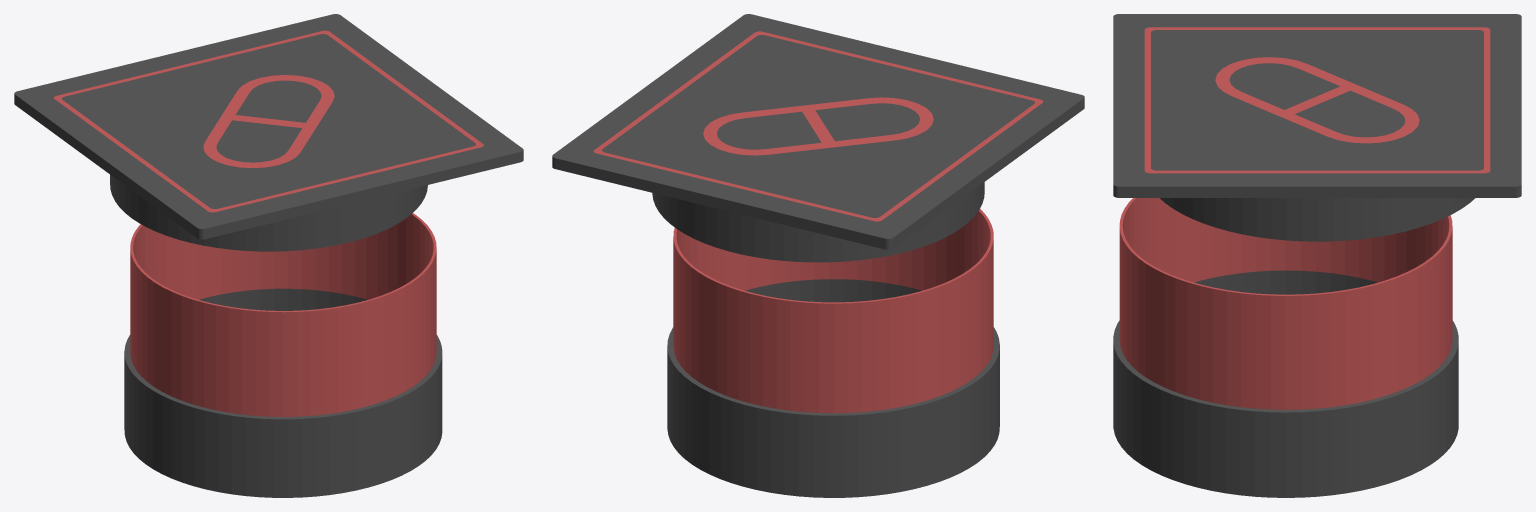
File: bomboniera-farmacia-facolta-aperto.glb
3 views of the same model, side by side, from view 1: azimuth 30°, elevation 25°; view 2: azimuth 150°, elevation 25°; view 3: azimuth 270°, elevation 25° (orthographic). The views are drawn at different scales.
Visible parts, largest first — view 1: struttura_coperchio, fascia, struttura_base, bordo, simbolo_intarsio; view 2: struttura_coperchio, fascia, struttura_base, bordo, simbolo_intarsio; view 3: struttura_coperchio, fascia, struttura_base, bordo, simbolo_intarsio.
Boxes of the visible parts, box(x1,y1,x2,y2) form: struttura_coperchio: box(14, 14, 523, 251); fascia: box(130, 213, 436, 416); struttura_base: box(124, 288, 442, 497); bordo: box(54, 30, 483, 212); simbolo_intarsio: box(203, 75, 334, 167); struttura_coperchio: box(552, 14, 1084, 262); fascia: box(673, 209, 993, 413); struttura_base: box(667, 279, 999, 497); bordo: box(593, 31, 1043, 221); simbolo_intarsio: box(703, 97, 933, 155); struttura_coperchio: box(1113, 14, 1521, 241); fascia: box(1119, 198, 1452, 409); struttura_base: box(1113, 270, 1458, 497); bordo: box(1144, 27, 1490, 173); simbolo_intarsio: box(1215, 57, 1419, 143).
Bounding box in the file's own units: 0.065 × 0.057 × 0.065.
